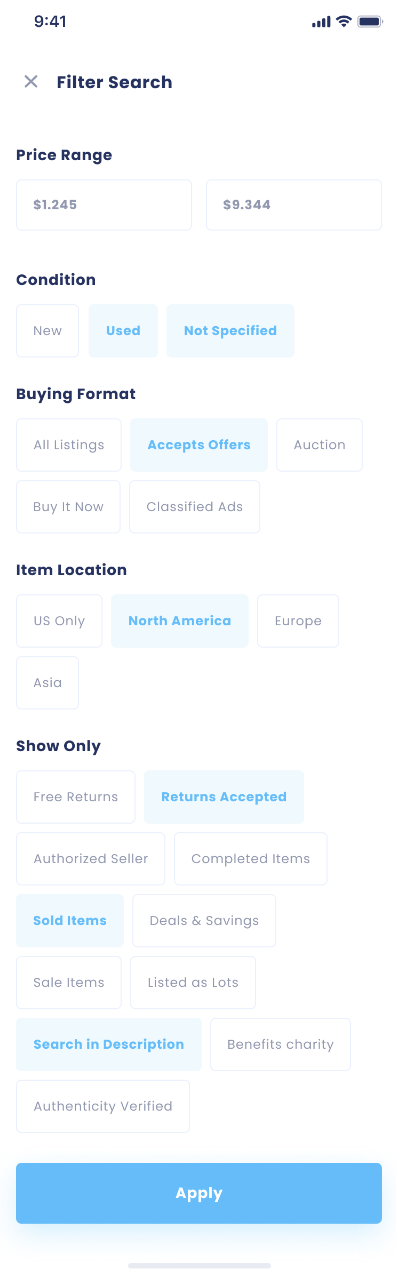Button: (13, 1160, 384, 1227)
